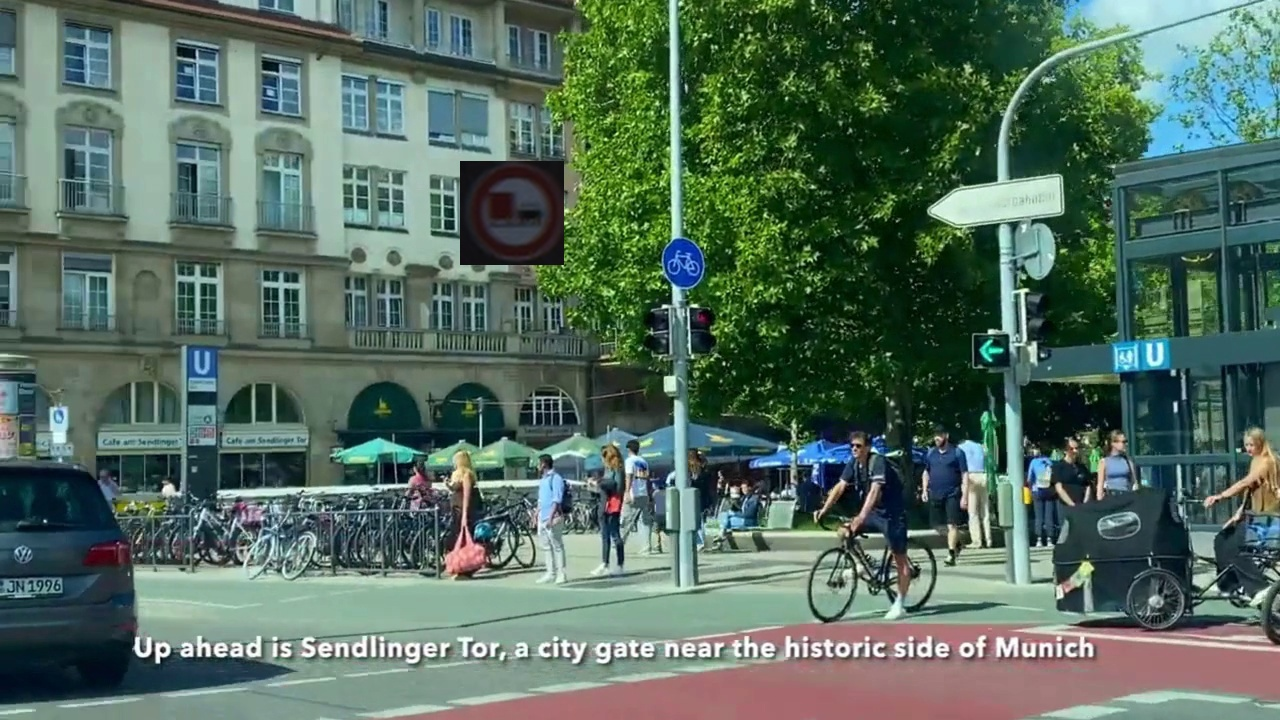No pass >3.5t: (460, 161, 564, 265)
